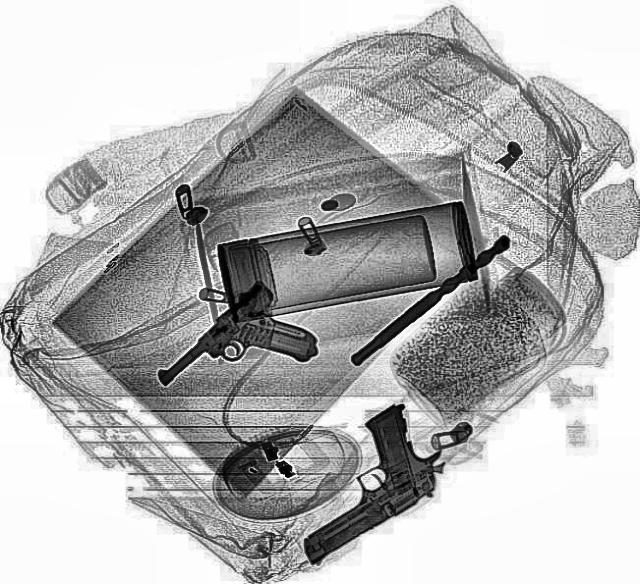Gun: (248, 401, 464, 565), (150, 277, 336, 435)
